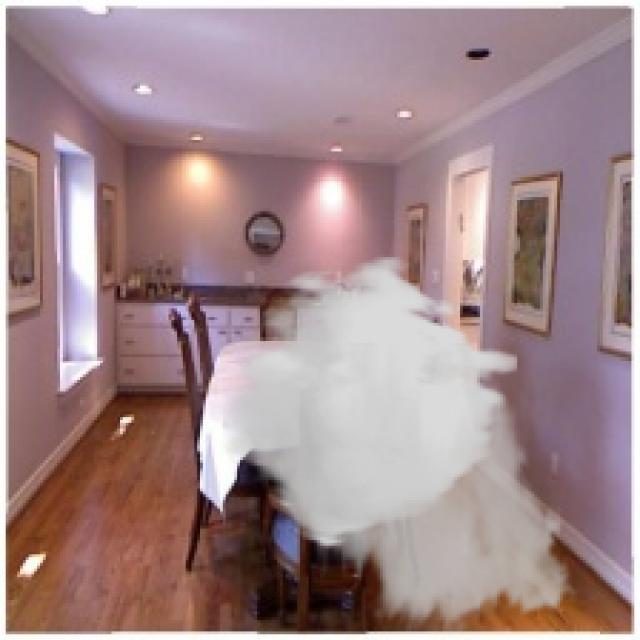smoke: (223, 254, 586, 637)
